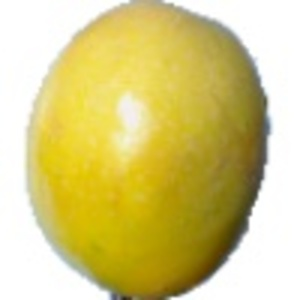maracujá: (23, 1, 275, 300)
